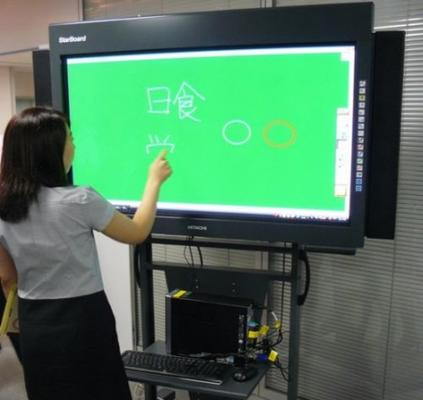person: (2, 107, 173, 398)
